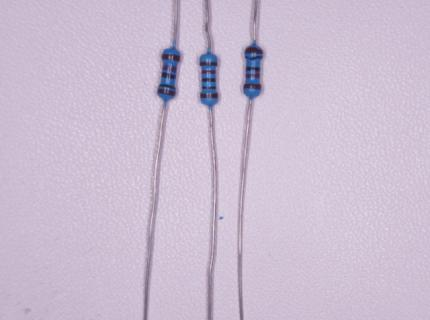Black band: (159, 83, 176, 89), (161, 73, 176, 79), (246, 67, 260, 72), (246, 56, 261, 60), (202, 78, 216, 82), (202, 86, 216, 90)
Brown band: (157, 88, 176, 96), (162, 54, 180, 62), (243, 84, 262, 90), (245, 48, 264, 54), (201, 94, 218, 99), (200, 61, 217, 66)
Red band: (162, 66, 177, 72), (246, 73, 260, 79), (202, 70, 215, 74)
